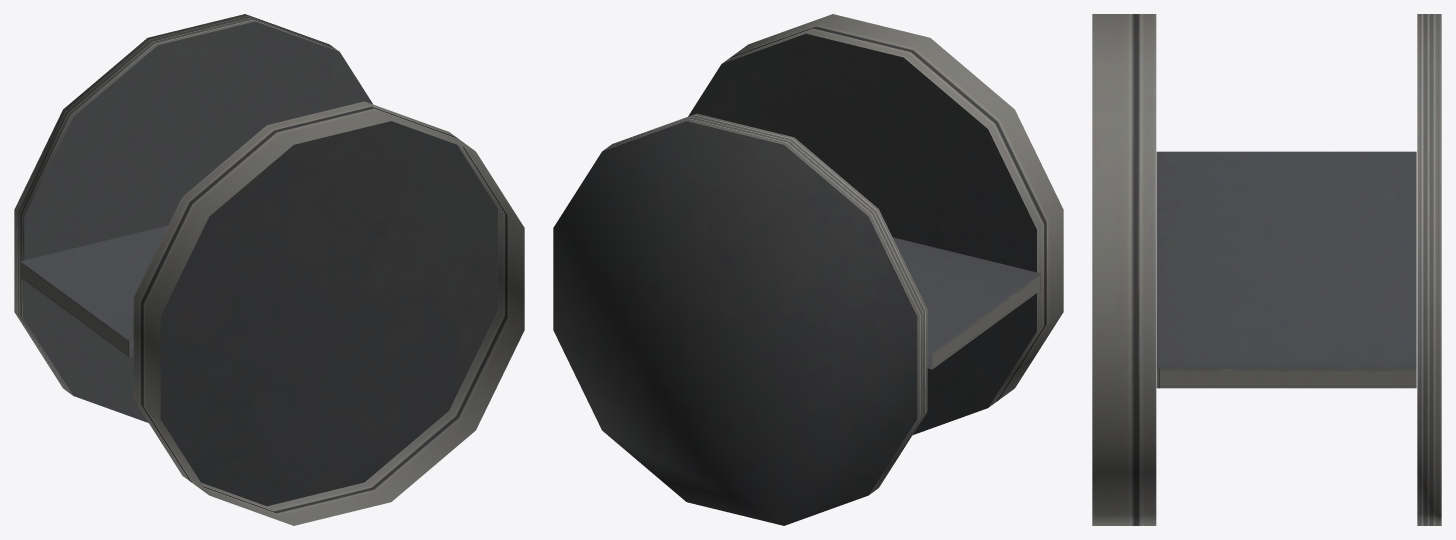
Rendered from nt_2020_cup_holder_LOD1.obj.
3 renders of one model, left to right at view 1: azimuth 30°, elevation 25°; view 2: azimuth 150°, elevation 25°; view 3: azimuth 270°, elevation 25°, orthographic. The views are drawn at different scales.
Parts seen in each view (by area): view 1: mtl_nt_2020_cup_holder; view 2: mtl_nt_2020_cup_holder; view 3: mtl_nt_2020_cup_holder.
Boxes of the visible parts, bbox=[...] form: mtl_nt_2020_cup_holder: bbox=[14, 14, 524, 525]; mtl_nt_2020_cup_holder: bbox=[553, 14, 1063, 525]; mtl_nt_2020_cup_holder: bbox=[1092, 14, 1441, 525].
Bounding box in the file's own units: 60.33 × 58.91 × 40.97.
